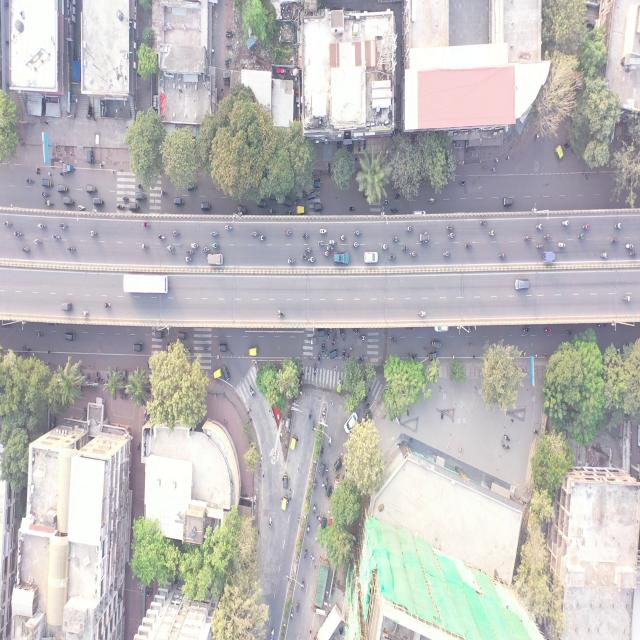3W: (555, 143, 564, 162), (222, 366, 230, 383), (60, 302, 72, 313), (65, 332, 76, 343), (174, 196, 186, 206), (289, 434, 296, 451), (328, 350, 339, 360), (62, 197, 74, 206), (92, 196, 104, 205), (281, 495, 288, 510), (86, 183, 96, 193), (431, 340, 441, 350), (248, 346, 258, 356), (503, 197, 513, 207), (213, 369, 222, 380), (41, 179, 53, 187), (58, 185, 68, 194), (136, 191, 146, 200), (202, 202, 212, 211), (428, 352, 438, 361), (320, 462, 326, 477), (133, 344, 143, 353), (218, 344, 228, 353), (177, 331, 187, 340), (129, 202, 140, 210), (238, 205, 247, 214), (420, 234, 430, 242), (283, 474, 288, 490), (155, 330, 163, 339), (297, 206, 305, 214), (36, 332, 43, 338)
Cars: (334, 252, 349, 264), (364, 252, 378, 263), (515, 280, 529, 290)
LCV: (206, 252, 224, 266), (543, 250, 556, 262), (63, 164, 75, 173), (252, 230, 260, 237)
M2W: (344, 411, 360, 437), (333, 457, 342, 471), (22, 244, 32, 255), (478, 216, 488, 226), (2, 219, 13, 228), (32, 237, 43, 246), (25, 177, 35, 186), (140, 242, 150, 251), (499, 250, 508, 260), (51, 233, 62, 241), (57, 221, 68, 229), (88, 230, 100, 237), (172, 231, 184, 238), (314, 202, 323, 211), (313, 180, 322, 189), (14, 230, 24, 238), (523, 234, 533, 242), (389, 335, 396, 346), (37, 222, 46, 230), (45, 197, 53, 206), (202, 246, 211, 254), (258, 234, 267, 242), (409, 250, 418, 258), (578, 232, 586, 241), (284, 198, 293, 206), (390, 206, 398, 215), (459, 178, 468, 186), (209, 230, 219, 237), (276, 310, 286, 317), (446, 232, 456, 239), (157, 234, 168, 240), (311, 419, 316, 432), (250, 385, 255, 398), (464, 242, 472, 250), (536, 222, 544, 230), (544, 233, 552, 241), (582, 222, 590, 230), (190, 242, 199, 249), (184, 255, 193, 262), (354, 229, 363, 236), (622, 295, 631, 302), (66, 246, 76, 252), (166, 245, 176, 251), (312, 502, 317, 514), (317, 352, 322, 364), (160, 190, 167, 198), (211, 241, 219, 248), (287, 257, 295, 264), (309, 255, 316, 263), (319, 228, 327, 235), (352, 241, 360, 248), (442, 251, 450, 258), (600, 251, 608, 258), (614, 222, 622, 229), (323, 250, 331, 257), (348, 206, 356, 213), (393, 192, 400, 200), (185, 250, 194, 256), (318, 240, 327, 246), (103, 302, 112, 308), (630, 249, 636, 258), (305, 246, 312, 253), (381, 243, 388, 250), (405, 226, 412, 233), (489, 230, 496, 237), (41, 191, 49, 197), (121, 195, 129, 201), (142, 221, 150, 227), (302, 232, 310, 238), (329, 240, 337, 246), (339, 234, 347, 240), (388, 253, 396, 259), (446, 224, 454, 230), (562, 220, 570, 226), (558, 242, 566, 248), (522, 327, 530, 333), (566, 329, 574, 335), (304, 547, 308, 559), (352, 328, 360, 334), (268, 208, 276, 214), (382, 199, 390, 205), (291, 608, 295, 620), (358, 353, 363, 362), (296, 602, 300, 613), (306, 523, 310, 534), (225, 224, 232, 230), (285, 229, 292, 235), (302, 253, 308, 260), (392, 235, 399, 241), (536, 243, 542, 250), (610, 237, 617, 243), (626, 243, 633, 249), (359, 334, 366, 340), (429, 197, 436, 203), (116, 205, 124, 210), (544, 327, 552, 332), (342, 350, 346, 360), (332, 334, 335, 346), (313, 364, 316, 376), (309, 408, 312, 420), (82, 311, 89, 316), (78, 205, 85, 210), (301, 579, 304, 590), (314, 479, 317, 490), (326, 331, 329, 341), (286, 211, 292, 216), (401, 246, 408, 250), (269, 517, 272, 526), (329, 437, 332, 445), (342, 330, 344, 341)
MAV: (123, 275, 170, 293)
